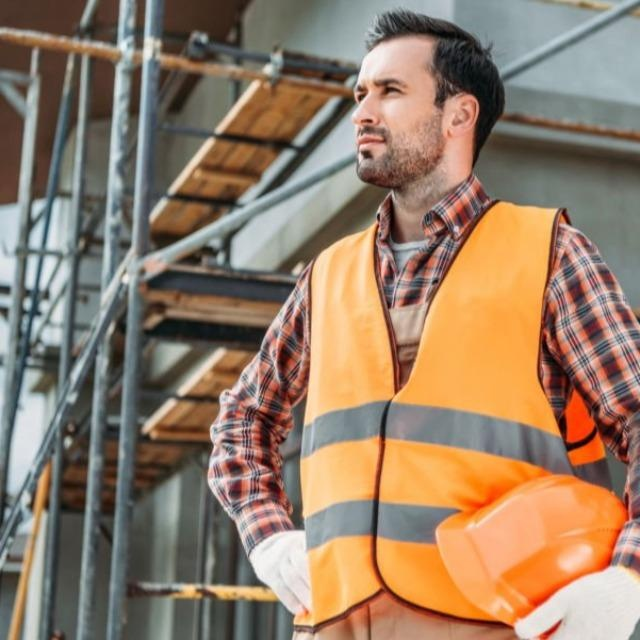Con_Chaleco: (304, 202, 571, 635)
Sin_Casco_Mascarrilla: (354, 9, 506, 186)
